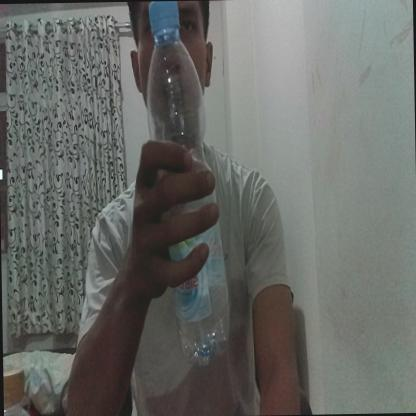plastic_bottles: (146, 0, 232, 370)
